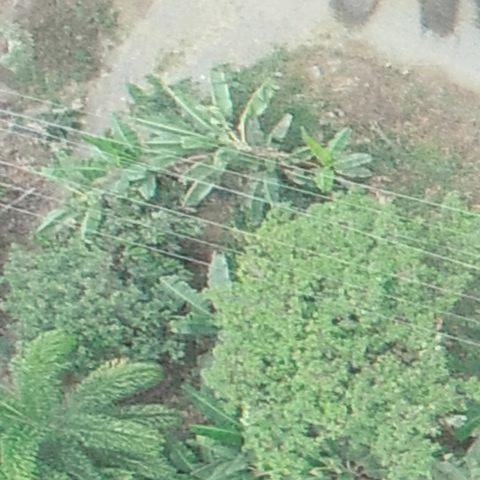Banana-plant: (172, 64, 282, 196), (77, 118, 169, 210), (230, 110, 308, 211), (34, 151, 112, 240), (303, 119, 380, 190)
